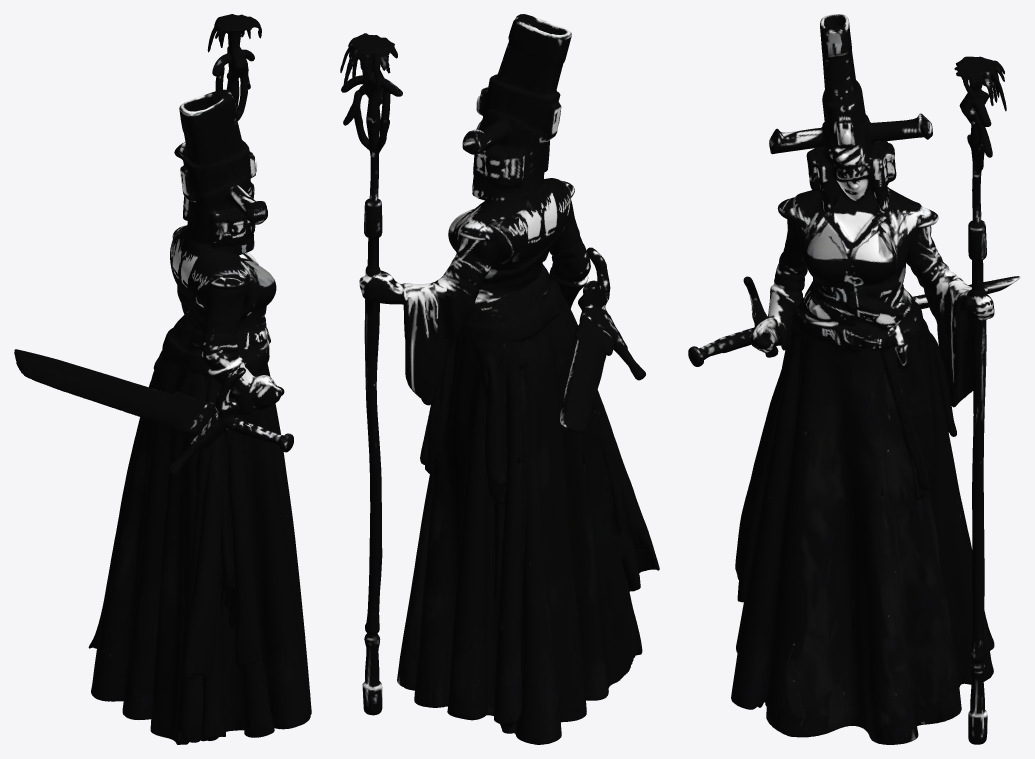
File: Front-character.glb
3 renders of one model, left to right at view 1: azimuth 30°, elevation 25°; view 2: azimuth 150°, elevation 25°; view 3: azimuth 270°, elevation 25°, orthographic. The views are drawn at different scales.
Parts seen in each view (by area): view 1: tripo_node_e49aa27d; view 2: tripo_node_e49aa27d; view 3: tripo_node_e49aa27d.
Boxes of the visible parts, <box> form: tripo_node_e49aa27d: <box>14,14,311,744</box>; tripo_node_e49aa27d: <box>340,14,659,744</box>; tripo_node_e49aa27d: <box>688,14,1020,744</box>.
Bounding box in the file's own units: 0.3831 × 1 × 0.4443.
1 material, 1 textured.
